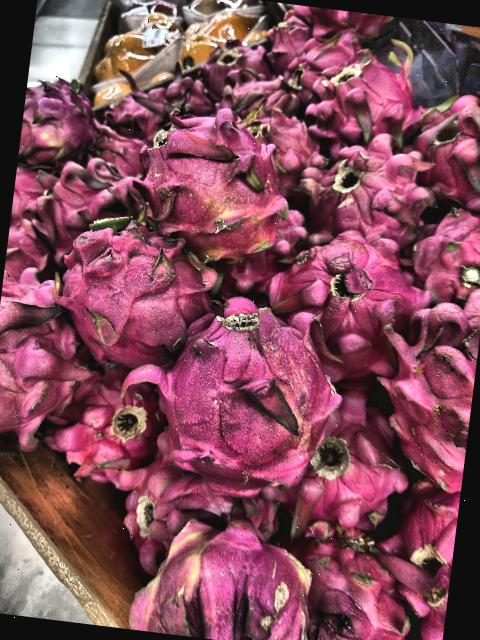buah-naga-matang: (148, 292, 330, 489), (128, 100, 299, 267), (49, 203, 216, 366), (270, 220, 424, 372), (373, 288, 480, 495), (146, 512, 315, 640), (290, 373, 411, 534), (118, 453, 279, 568), (296, 136, 431, 248), (283, 528, 417, 640), (0, 274, 87, 445), (56, 366, 160, 484), (309, 48, 421, 148), (390, 480, 460, 622), (411, 86, 480, 211), (31, 161, 129, 246), (18, 72, 96, 165), (413, 192, 480, 297), (5, 166, 59, 278), (194, 32, 274, 93), (214, 66, 300, 119), (286, 40, 352, 102), (86, 126, 158, 182), (292, 5, 394, 40), (262, 4, 314, 66)
